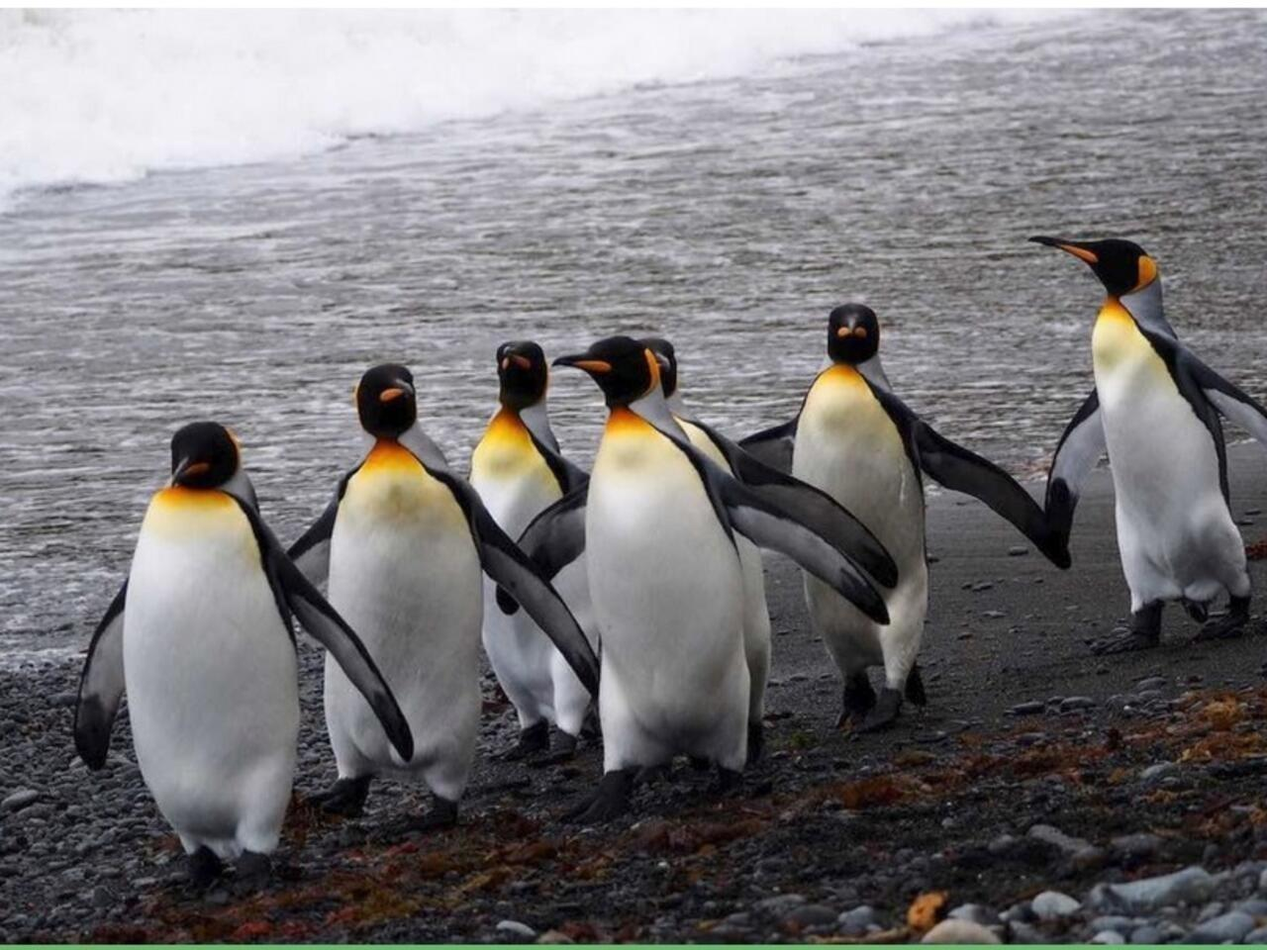Penguin: (520, 336, 888, 821), (74, 424, 413, 886), (740, 305, 1069, 732), (290, 364, 597, 820), (1032, 236, 1266, 654), (643, 336, 898, 589), (470, 341, 586, 537), (483, 582, 592, 766), (737, 539, 772, 736), (554, 559, 599, 646)
